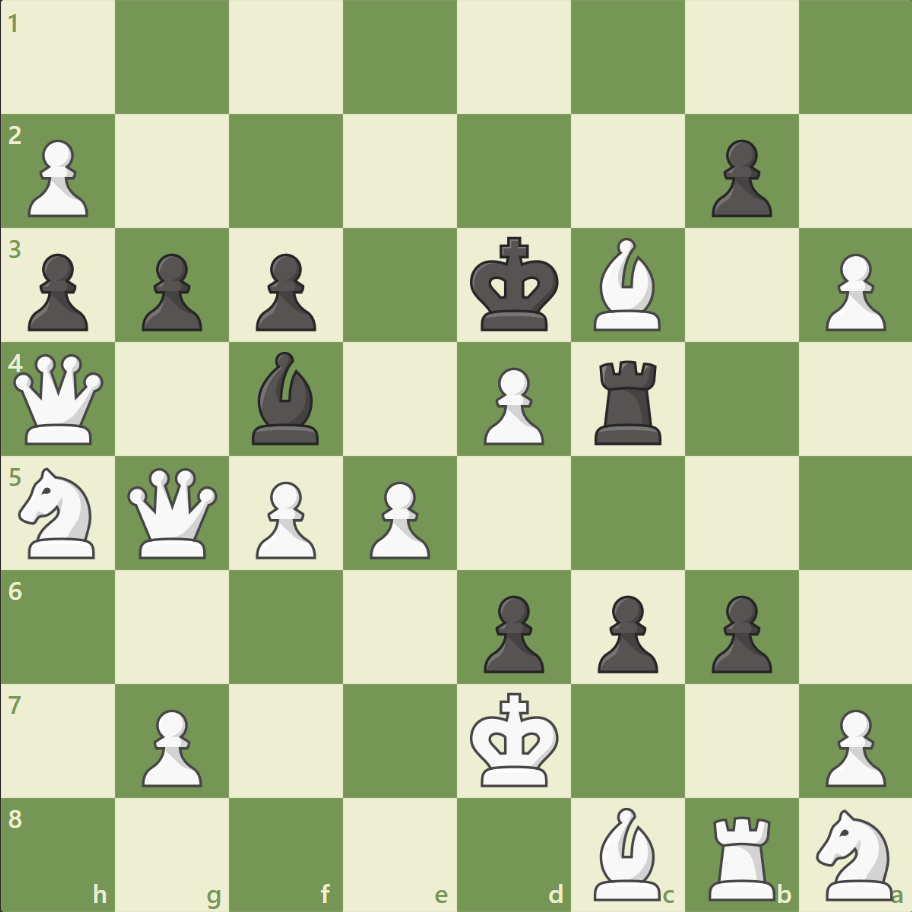B: (585, 801, 669, 904), (585, 233, 669, 336)
K: (465, 685, 565, 793)
N: (11, 461, 108, 564), (806, 802, 903, 904)
P: (133, 700, 208, 791), (247, 473, 322, 564), (474, 359, 549, 450), (20, 132, 95, 223), (815, 700, 889, 791), (361, 473, 435, 564), (815, 246, 889, 337)
Q: (10, 349, 109, 449), (124, 463, 223, 562)
R: (700, 806, 783, 904)
b: (244, 347, 328, 449)
k: (465, 231, 565, 339)
p: (701, 586, 776, 677), (474, 586, 549, 677), (247, 246, 322, 337), (133, 246, 208, 337), (20, 246, 95, 337), (701, 132, 776, 223), (588, 586, 662, 677)
r: (587, 352, 670, 449)
